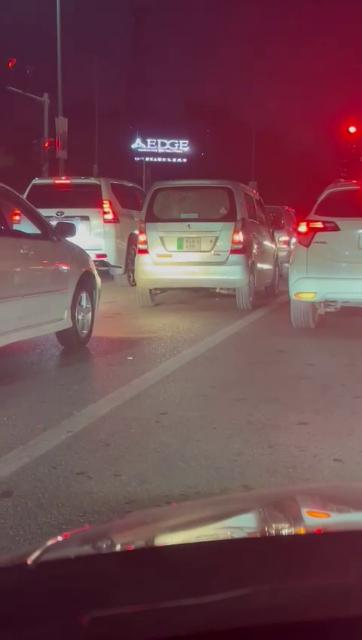plate: (178, 238, 202, 250)
